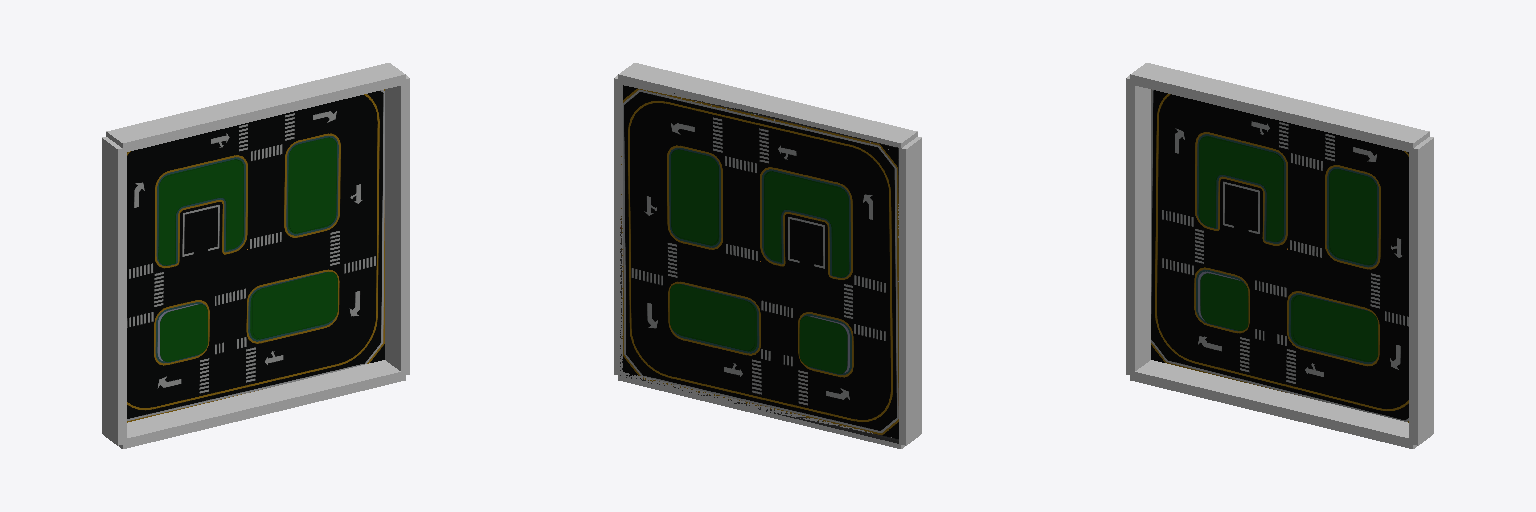
The picture shows the model from 3 angles: view 1: azimuth 30°, elevation 25°; view 2: azimuth 150°, elevation 25°; view 3: azimuth 330°, elevation 25°; orthographic projection.
Parts seen in each view (by area): view 1: limo_simulation_track; view 2: limo_simulation_track; view 3: limo_simulation_track.
Part boxes in pixels (bbox=[...]): limo_simulation_track: bbox=[102, 63, 409, 448]; limo_simulation_track: bbox=[614, 63, 921, 448]; limo_simulation_track: bbox=[1126, 63, 1433, 448].
Bounding box in the file's own units: 3.1 × 3.1 × 0.3.
5 materials, 1 textured.